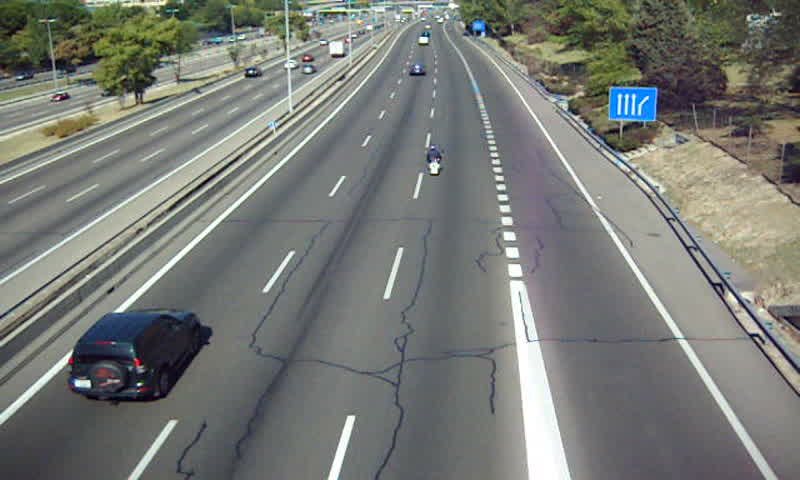car: (69, 310, 202, 400), (408, 63, 427, 78)
motorcycle: (424, 146, 441, 178)
